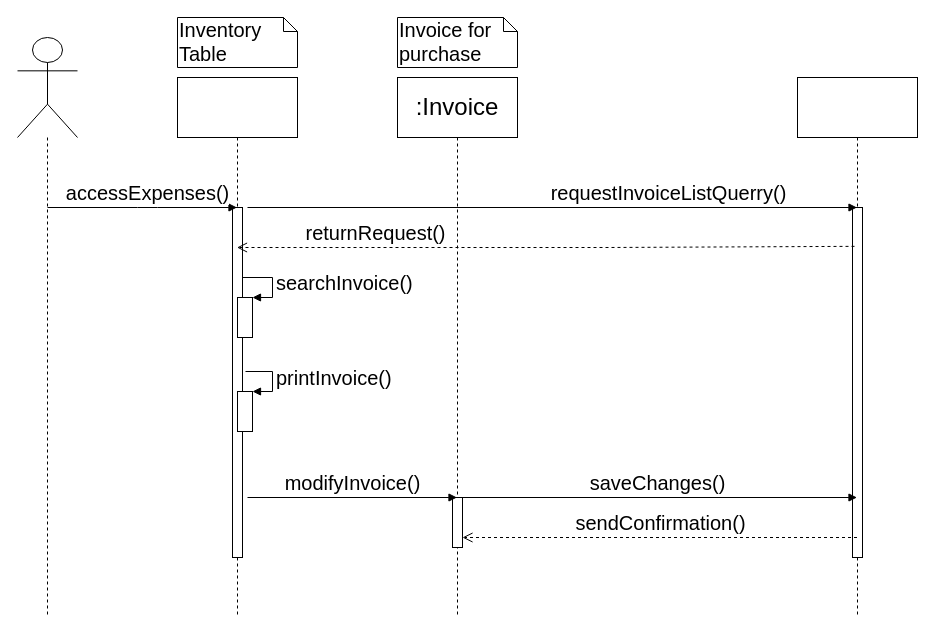
Some shapes in this 935 by 635 pixel diagram are drawn without their labels. The shapes that lost their labels are listed below. From the top down, each one's box as (x1, y1, x2, y2) in pixels, then its label:
(176, 76, 298, 618): :Expenses
(796, 76, 918, 618): :Database
